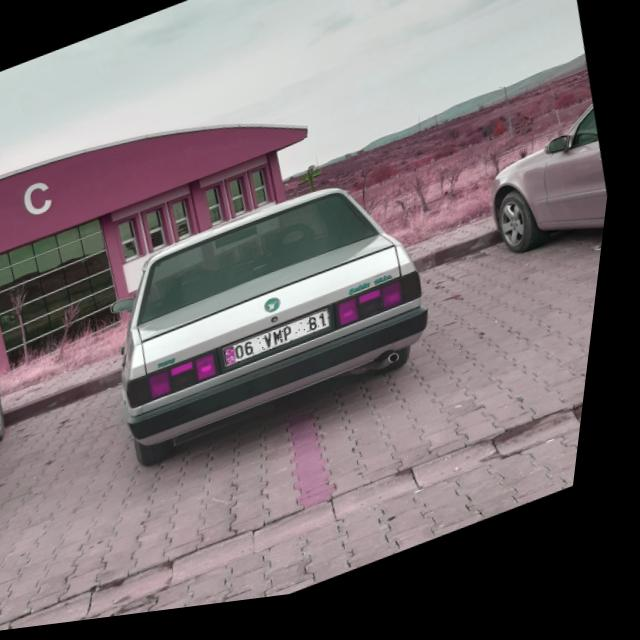license_plate: (231, 318, 342, 374)
